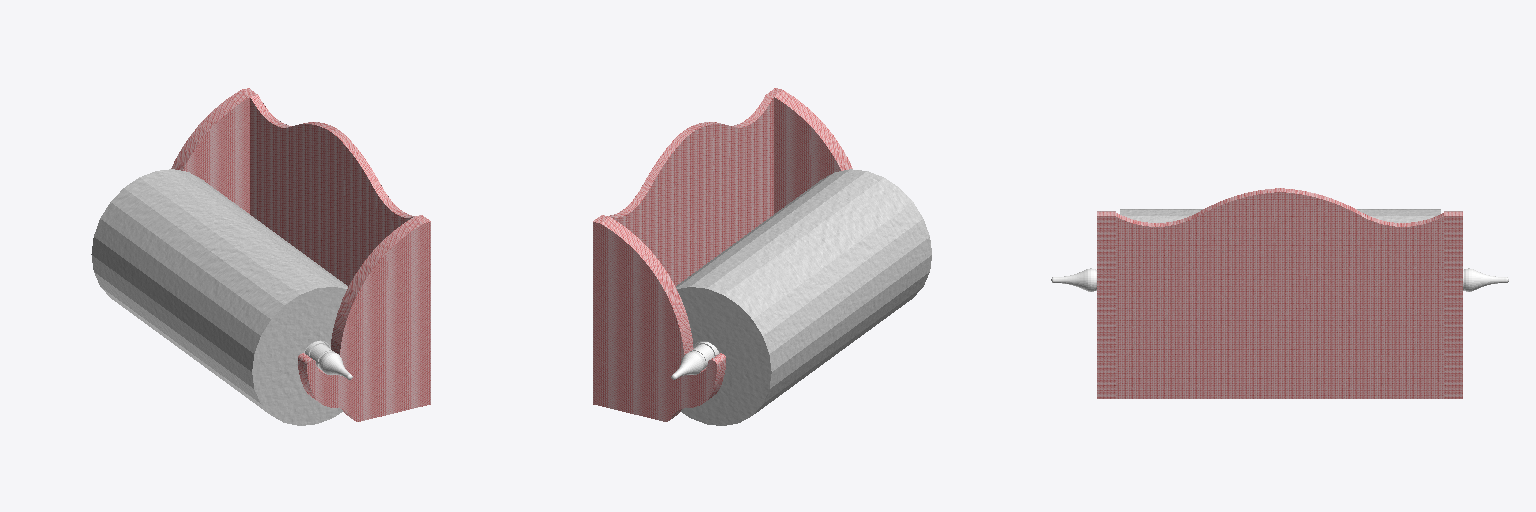
3 renders of one model, left to right at view 1: azimuth 30°, elevation 25°; view 2: azimuth 150°, elevation 25°; view 3: azimuth 270°, elevation 25°, orthographic.
Parts seen in each view (by area): view 1: Paper1, Back1, End2, End1, End2_1; view 2: Paper1, Back1, End1, End2, End2_2; view 3: Back1, End1, End2, Paper1, End2_2, End2_1.
Boxes of the visible parts, x1=… form: Paper1: x1=91, y1=169, x2=347, y2=425; Back1: x1=250, y1=95, x2=414, y2=286; End2: x1=298, y1=215, x2=430, y2=421; End1: x1=171, y1=88, x2=257, y2=213; End2_1: x1=319, y1=352, x2=352, y2=379; Paper1: x1=676, y1=169, x2=931, y2=425; Back1: x1=609, y1=95, x2=773, y2=286; End1: x1=593, y1=215, x2=725, y2=421; End2: x1=766, y1=88, x2=852, y2=213; End2_2: x1=671, y1=352, x2=704, y2=379; Back1: x1=1116, y1=188, x2=1443, y2=398; End1: x1=1444, y1=211, x2=1462, y2=398; End2: x1=1097, y1=211, x2=1115, y2=398; Paper1: x1=1120, y1=209, x2=1440, y2=222; End2_2: x1=1464, y1=268, x2=1508, y2=291; End2_1: x1=1051, y1=268, x2=1095, y2=291.
Bounding box in the file's own units: 0.8176 × 0.9747 × 1.93.
3 materials, 2 textured.